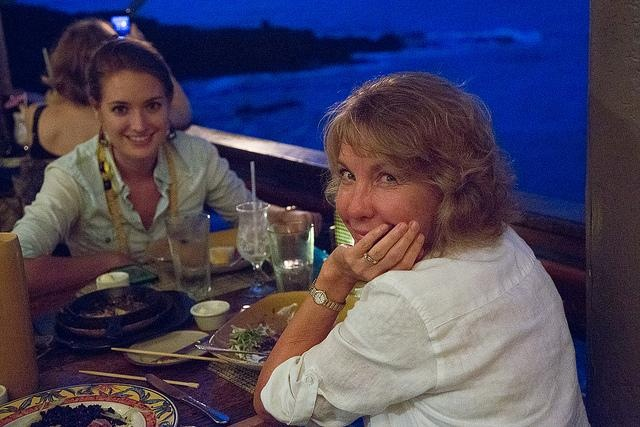person: (252, 73, 598, 427), (5, 40, 323, 295), (16, 17, 193, 161)
